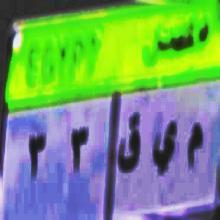3: (22, 121, 48, 190), (67, 120, 92, 181)
meem: (186, 117, 203, 181)
qaaf: (113, 104, 142, 184)
yaa: (152, 116, 178, 178)
